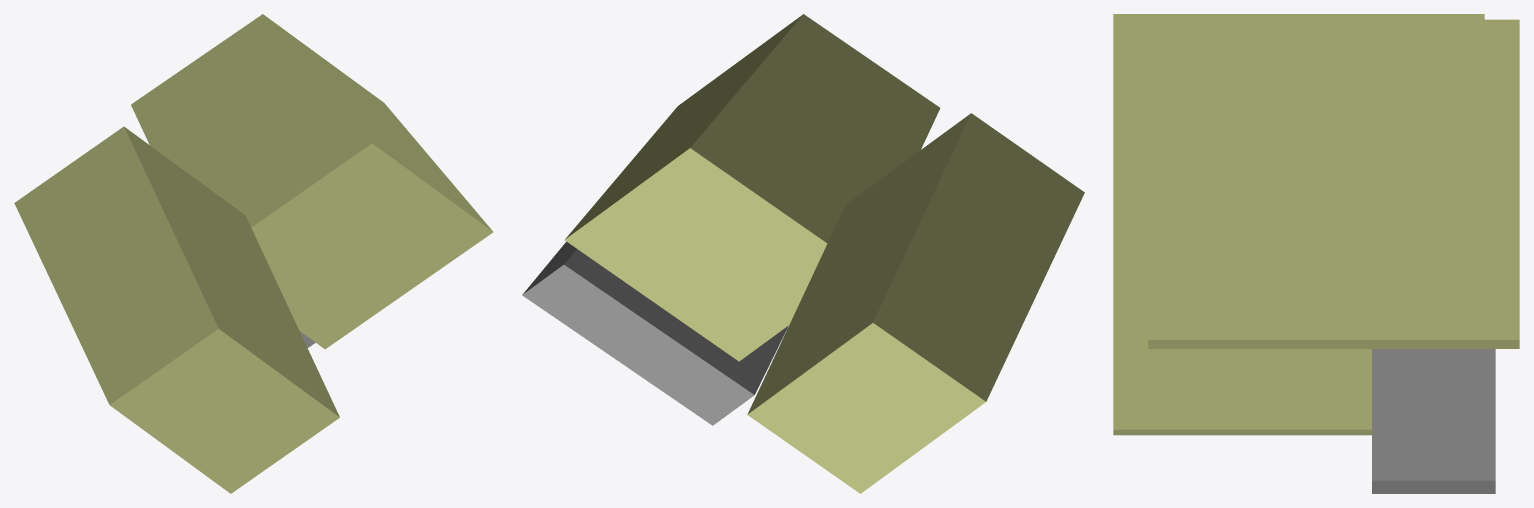
The picture shows the model from 3 angles, left to right: view 1: azimuth 30°, elevation 25°; view 2: azimuth 150°, elevation 25°; view 3: azimuth 270°, elevation 25°; orthographic projection. The views are drawn at different scales.
Visible parts, largest first — view 1: 0_2_2_0_0_0_3_1_1_0; view 2: 0_2_2_0_0_0_3_1_1_0; view 3: 0_2_2_0_0_0_3_1_1_0.
Part boxes in pixels (x1,y1,x2,y2): 0_2_2_0_0_0_3_1_1_0: (14,14,493,493); 0_2_2_0_0_0_3_1_1_0: (522,14,1084,493); 0_2_2_0_0_0_3_1_1_0: (1113,14,1519,493).
Size of the model in its own units: 17.91 by 14.01 by 9.85.
